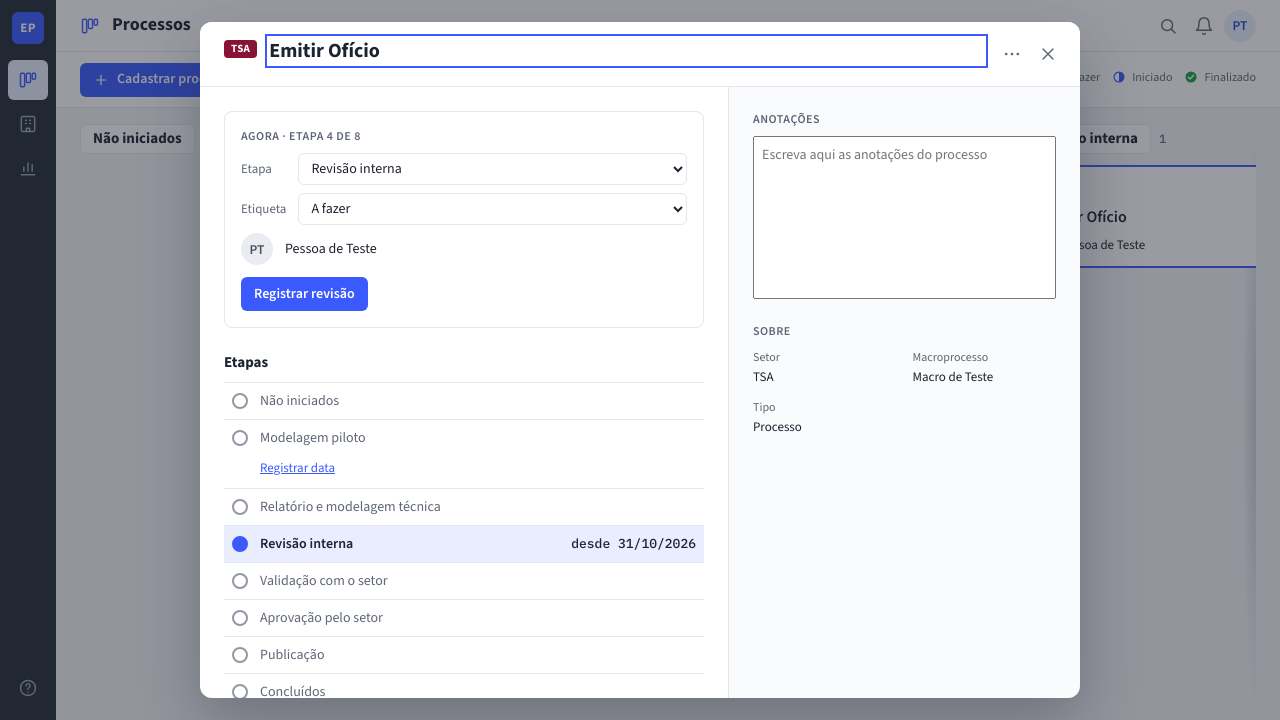
Test: "Corrigida" fica desabilitada, com o motivo, sem versão enviada na passagem
Step 1. Click the button "Registrar revisão" → (304, 294), box [241,277,368,311]
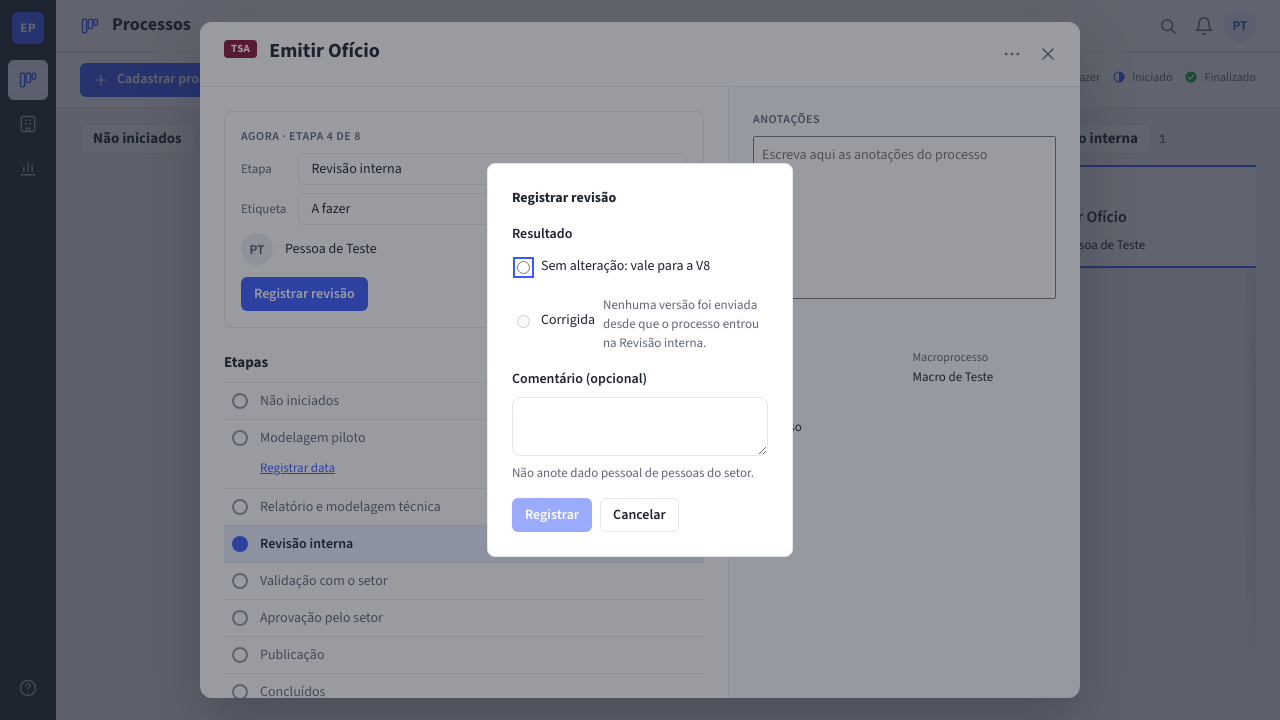
Now the radio button labelled "Corrigida" is disabled, box [517,315,530,328]
Now the text "Nenhuma versão foi enviada desde que o processo entrou na Revisão interna." is shown, box [603,296,768,353]
Now the radio button labelled "Sem alteração: vale para a V8" is enabled, box [517,261,530,274]
